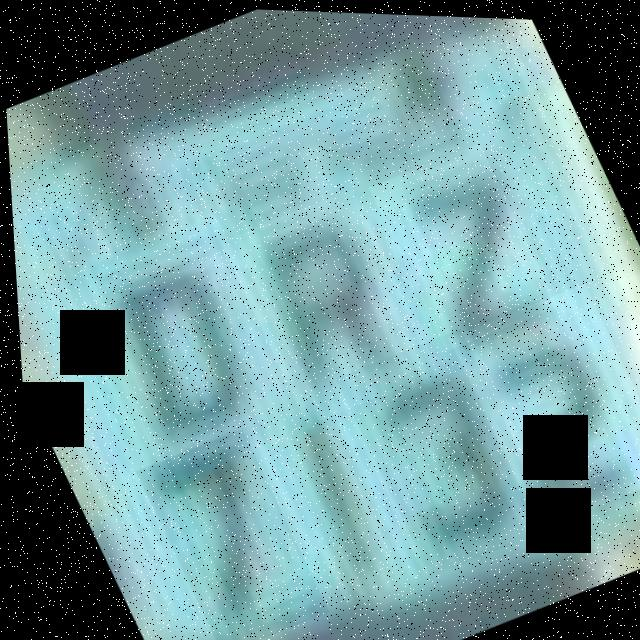1: (256, 376, 423, 595)
2: (441, 274, 640, 528)
3: (328, 321, 552, 577)
7: (128, 423, 325, 640)
R: (214, 182, 437, 426)
Z: (363, 135, 556, 351)
